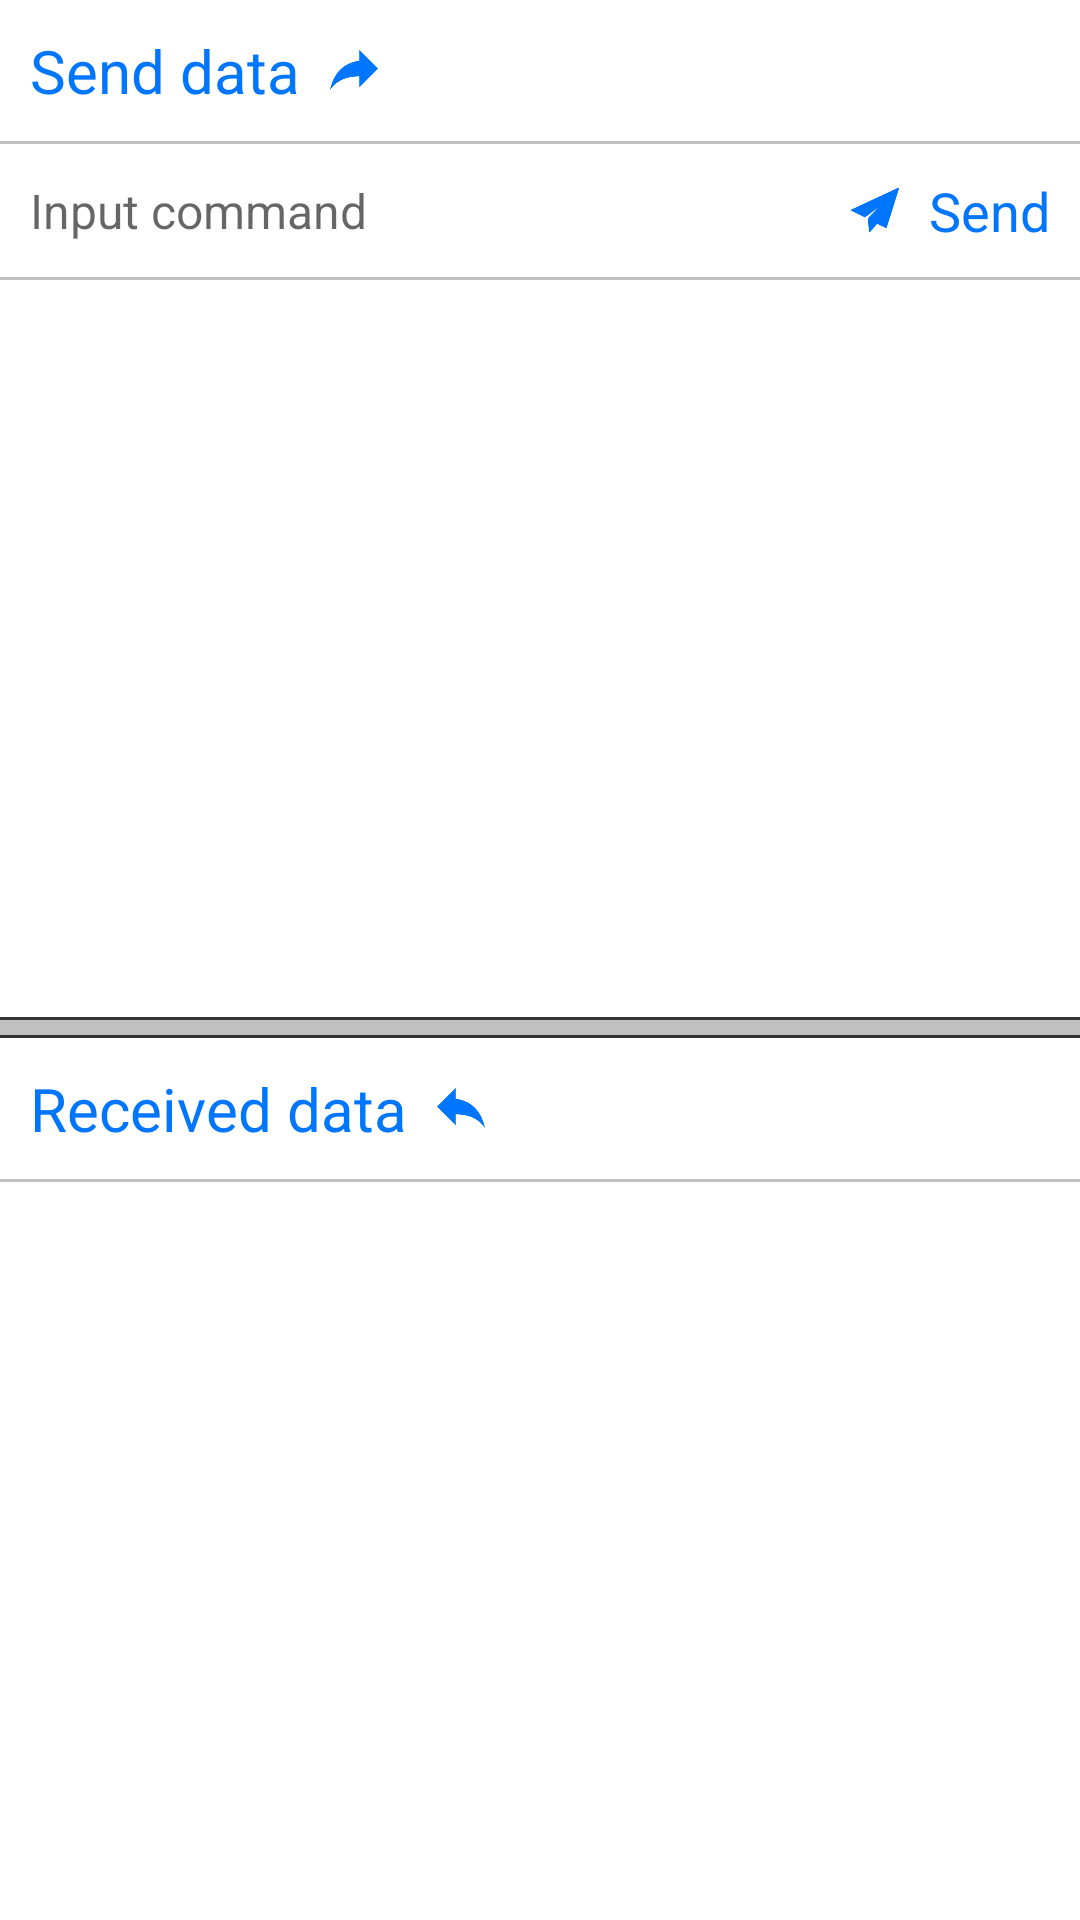

Screen size 1080px×1920px. Icon name, then its center in pixels as (x,y):
receive data: (461,1108)
